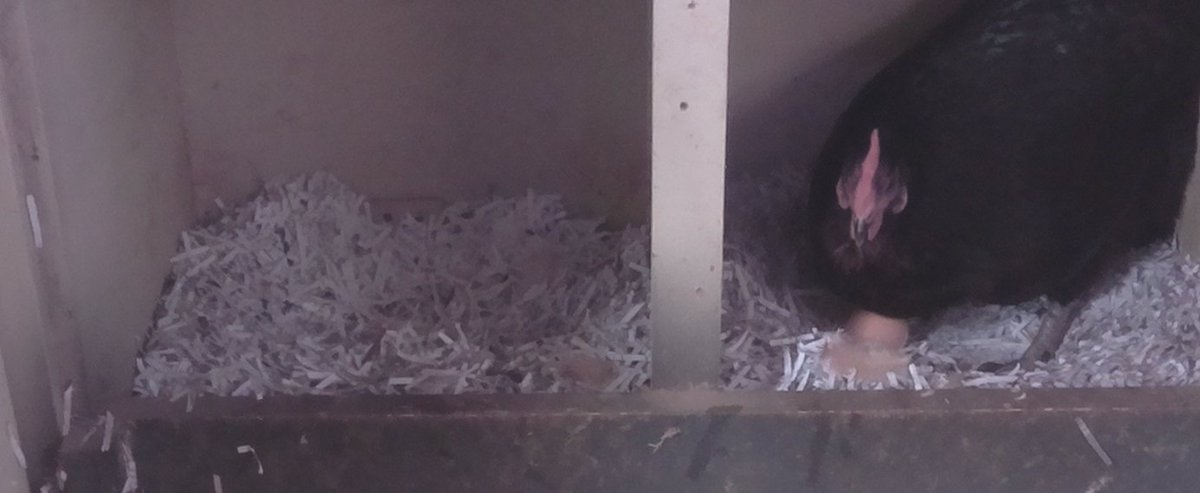egg: (845, 310, 912, 358)
hen: (801, 3, 1200, 320)
